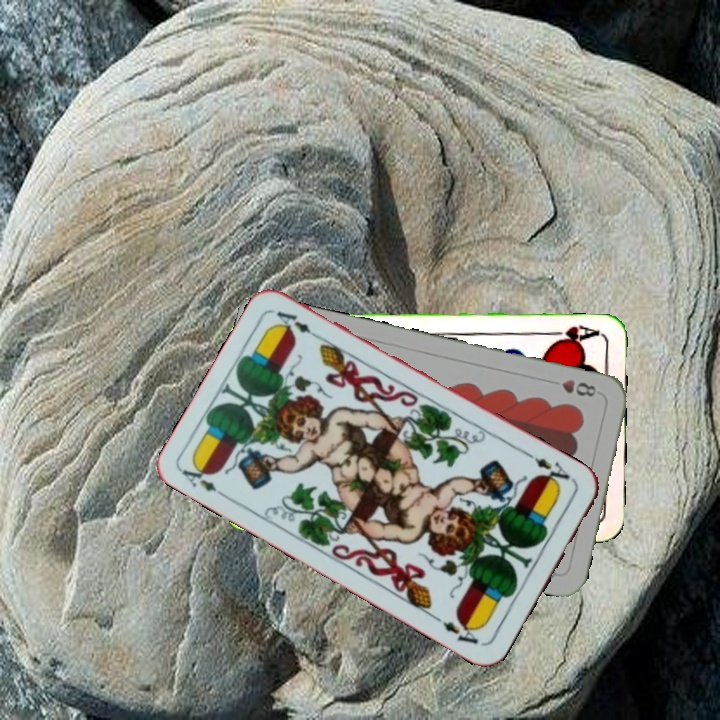EA: (178, 459, 232, 502), (524, 449, 578, 489)
H8: (544, 375, 599, 400)
HA: (544, 321, 603, 347)
